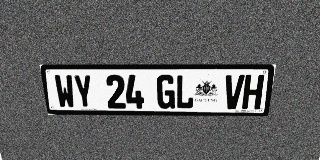2: (106, 75, 126, 109)
4: (125, 75, 144, 109)
G: (157, 75, 175, 109)
H: (242, 75, 265, 109)
L: (175, 75, 195, 109)
V: (223, 75, 245, 109)
W: (54, 75, 76, 108)
Y: (72, 75, 94, 108)
